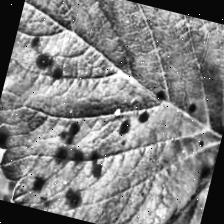Leaf Spot: (0, 0, 224, 224), (74, 113, 219, 224), (2, 180, 81, 218)
